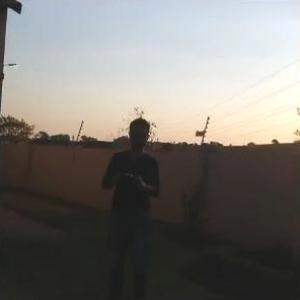follow: (96, 118, 166, 299)
